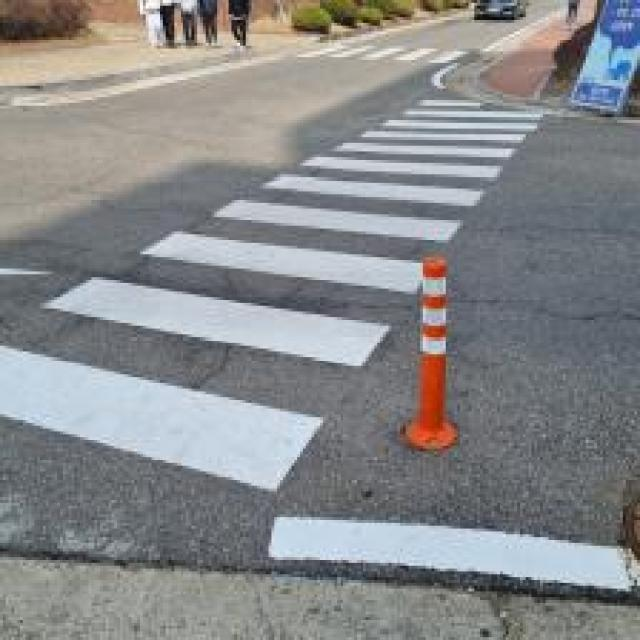crosswalk: (4, 89, 553, 504)
